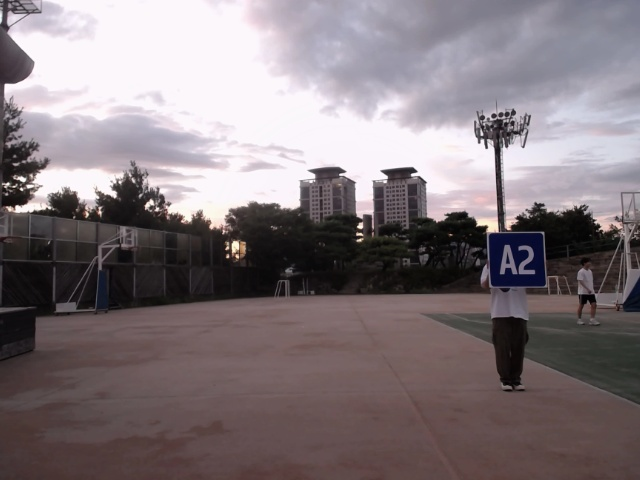delivery_a2: (488, 232, 547, 288)
